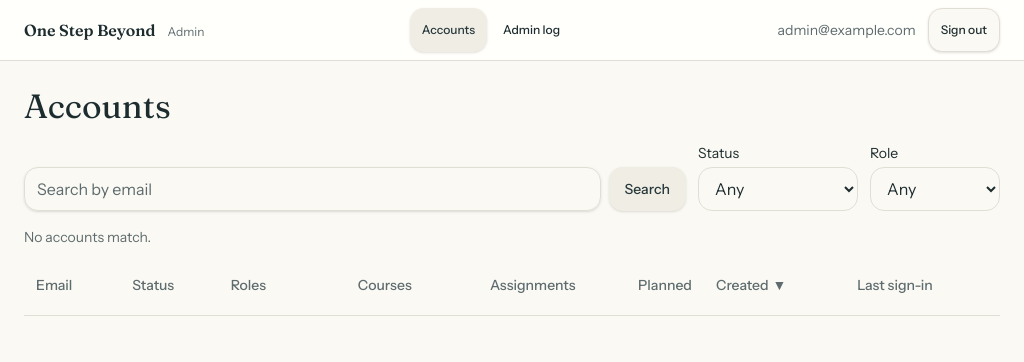
Scenario: AdminApp (admin-account-management-v0.1.md, A2) › the Admin log view (admin-action-log-v0.1.md, L1 and G3) › switching views keeps each view's own filters
Select "Disabled" in the dropdown labelled "Status" at (778, 189), box [698,167,858,211]
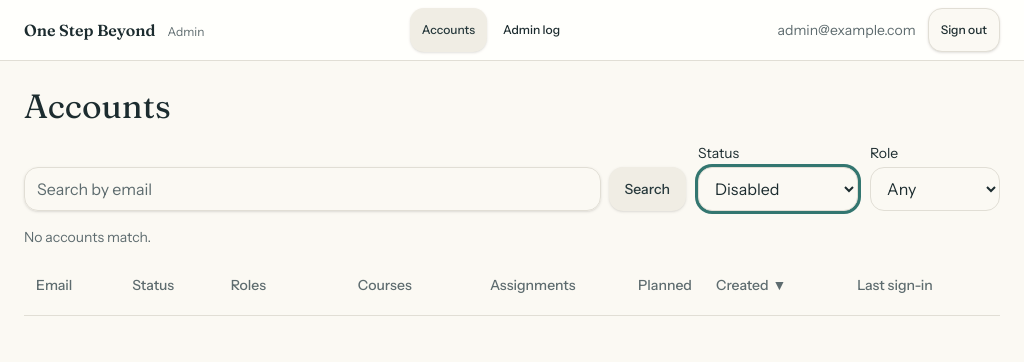
Click the button "Admin log".
click(532, 30)  # box [491,8,572,52]
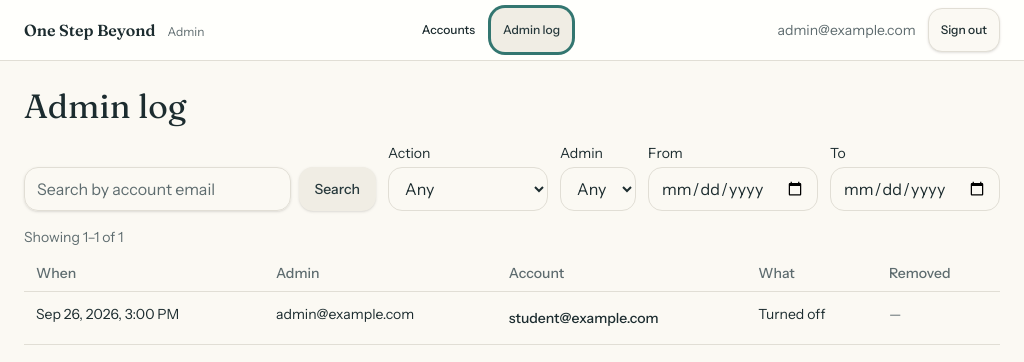
Click the button "Accounts".
click(448, 30)  # box [410,8,487,52]
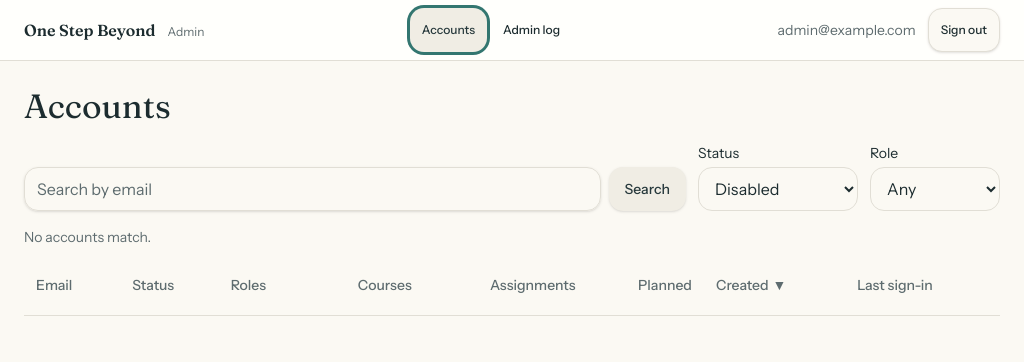
Result: the dropdown labelled "Status" shows "Disabled" at [698,167,858,211]
